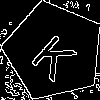K: (28, 26, 85, 83)
